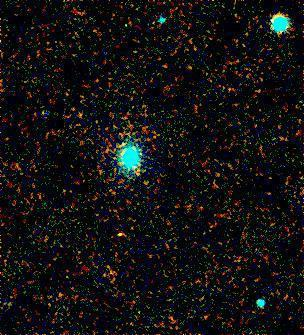star: (106, 219, 136, 249)
